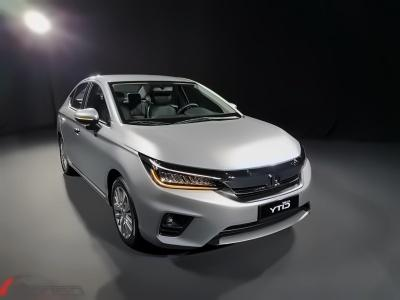Car hood: (121, 114, 304, 172)
Driver-s door - -F-R-: (73, 78, 106, 196)
Fender - -F-R-: (106, 120, 147, 201)
Front bumper: (132, 178, 327, 255)
Headlight - -R-: (137, 150, 226, 192)
Passenger-s door - -R-R-: (60, 76, 80, 175)
Side bumper - -R-: (64, 156, 112, 206)
Side mirror - -R-: (73, 105, 105, 135)
